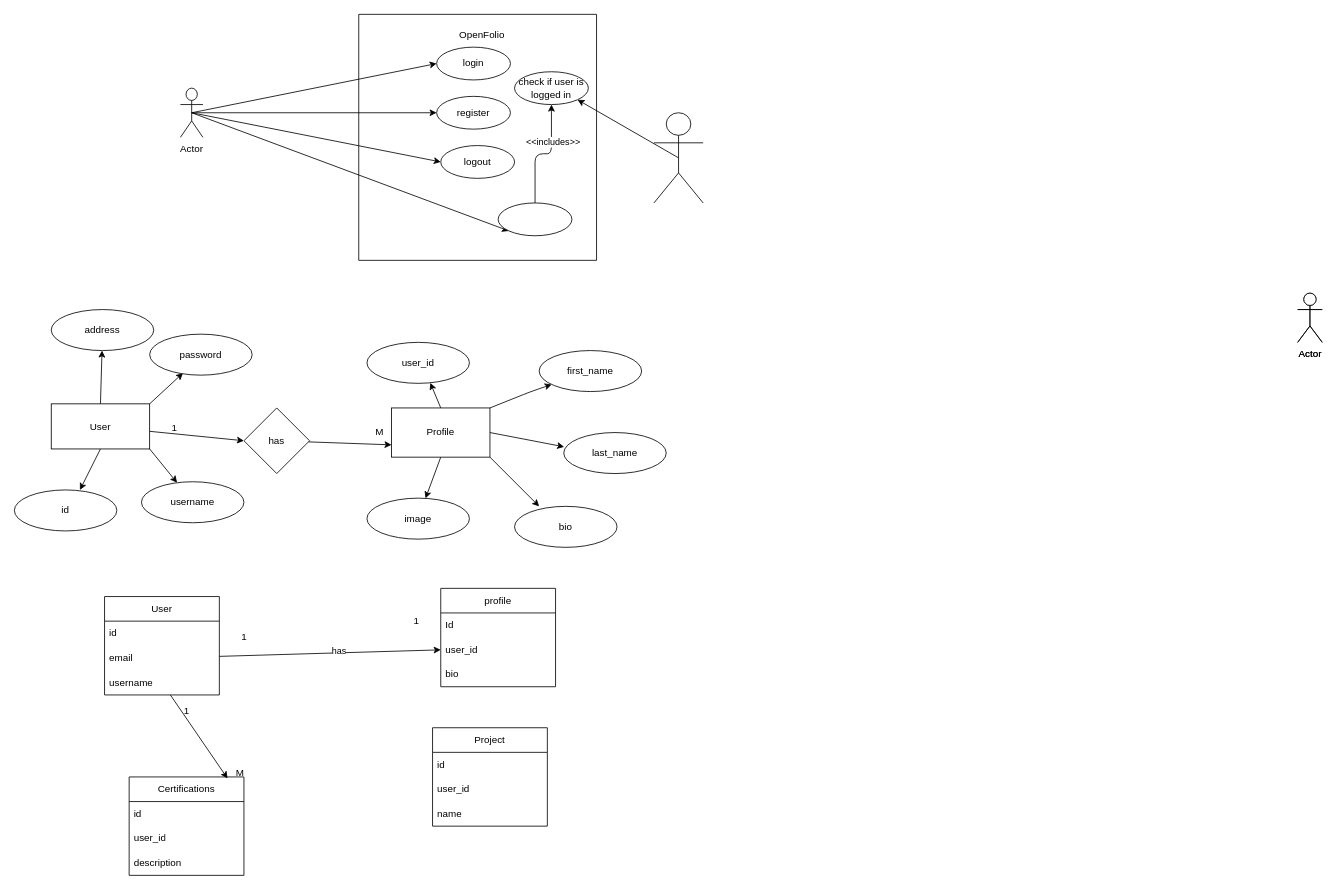
Some shapes in this 1337 by 890 pixel diagram are drawn without their labels. Each missing label, with the centre of its shape:
"add skill" goes at point 534,219.
"System" goes at point 678,157.
